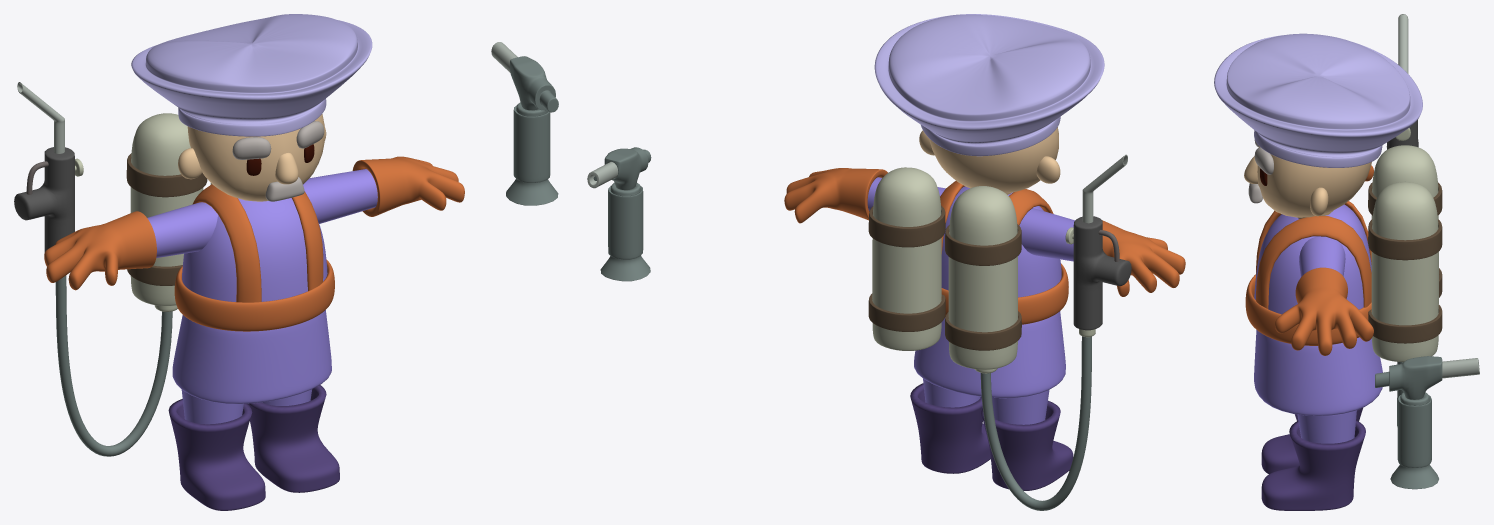
File: Character C.fbx
The picture shows the model from 3 angles, left to right: view 1: azimuth 30°, elevation 25°; view 2: azimuth 150°, elevation 25°; view 3: azimuth 270°, elevation 25°; orthographic projection. The views are drawn at different scales.
Visible parts, largest first — view 1: Hat, Boots, Lowerbody, gloves, Upperbody, Hand gun, Arms, Cylinder tank.001, Face, belt, Bag handler, pipe (+7 smaller); view 2: Hat, Cylinder tank, Cylinder tank.001, Boots, gloves, Lowerbody, Hand gun, tanker handle, Face, pipe, Tanker holder, Tanker holder 1 (+7 smaller); view 3: Hat, Cylinder tank, Lowerbody, Boots, Hand gun, gloves, Face, Bag handler, Upperbody, Tanker holder, Cylinder tank.001, belt (+8 smaller).
Boxes of the visible parts, x1,y1,x2,y2 form: Hat: [131, 14, 372, 136]; Boots: [168, 385, 339, 510]; Lowerbody: [172, 310, 331, 403]; gloves: [44, 156, 464, 290]; Upperbody: [182, 198, 327, 301]; Hand gun: [506, 56, 558, 205]; Arms: [147, 169, 377, 257]; Cylinder tank.001: [130, 113, 203, 305]; Face: [187, 114, 324, 201]; belt: [174, 259, 334, 331]; Bag handler: [192, 184, 323, 302]; pipe: [55, 275, 172, 456]; Hat: [874, 14, 1104, 156]; Cylinder tank: [872, 167, 941, 350]; Cylinder tank.001: [948, 186, 1017, 369]; Boots: [910, 383, 1073, 490]; gloves: [784, 168, 1185, 296]; Lowerbody: [914, 311, 1065, 398]; Hand gun: [600, 147, 651, 281]; tanker handle: [1073, 216, 1131, 330]; Face: [929, 127, 1058, 192]; pipe: [980, 336, 1091, 510]; Tanker holder: [868, 205, 945, 331]; Tanker holder 1: [945, 224, 1021, 350]; Hat: [1214, 33, 1422, 167]; Cylinder tank: [1371, 181, 1438, 362]; Lowerbody: [1254, 330, 1382, 415]; Boots: [1261, 408, 1365, 510]; Hand gun: [1375, 356, 1442, 489]; gloves: [1275, 165, 1373, 355]; Face: [1257, 146, 1371, 217]; Bag handler: [1256, 201, 1371, 308]; Upperbody: [1254, 204, 1371, 314]; Tanker holder: [1368, 219, 1442, 343]; Cylinder tank.001: [1371, 145, 1438, 264]; belt: [1245, 274, 1371, 345].
Size of the model in its own units: 239 by 182 by 106.
